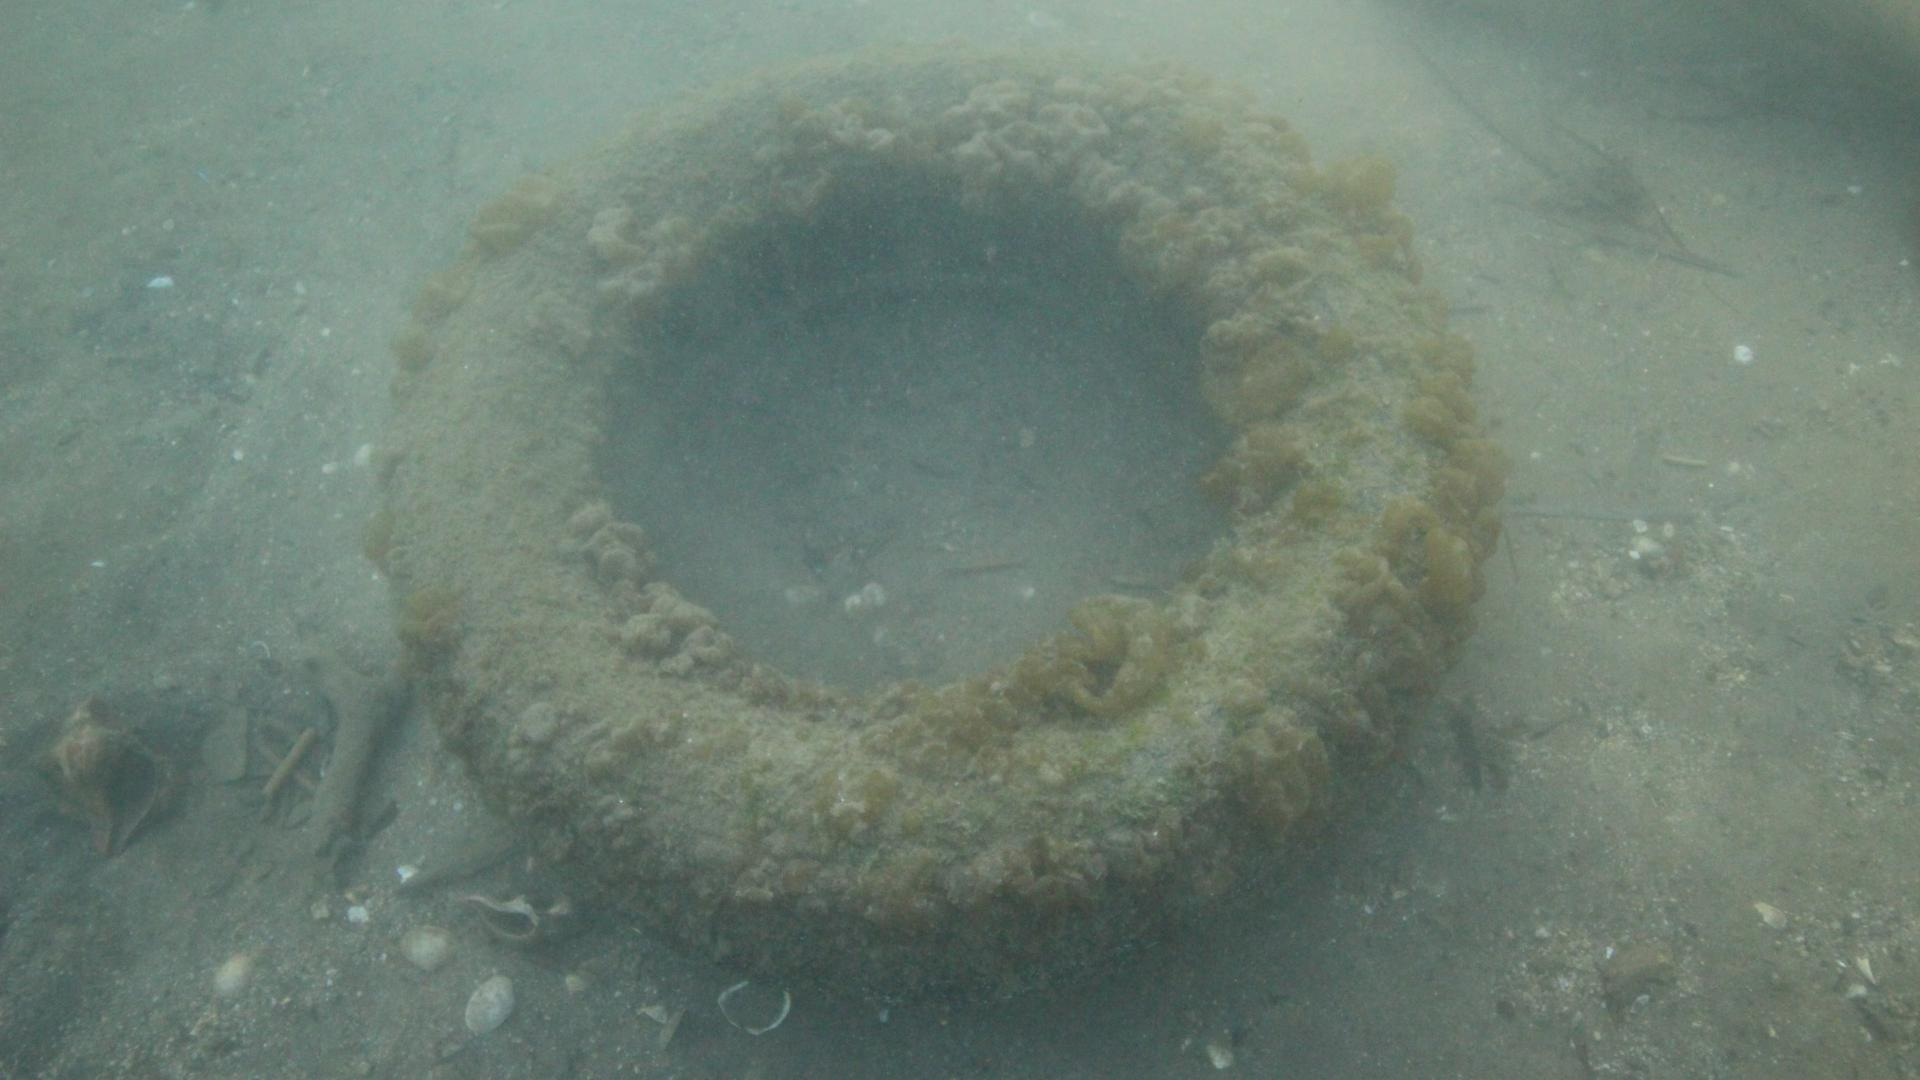tire: (386, 40, 1491, 1007)
